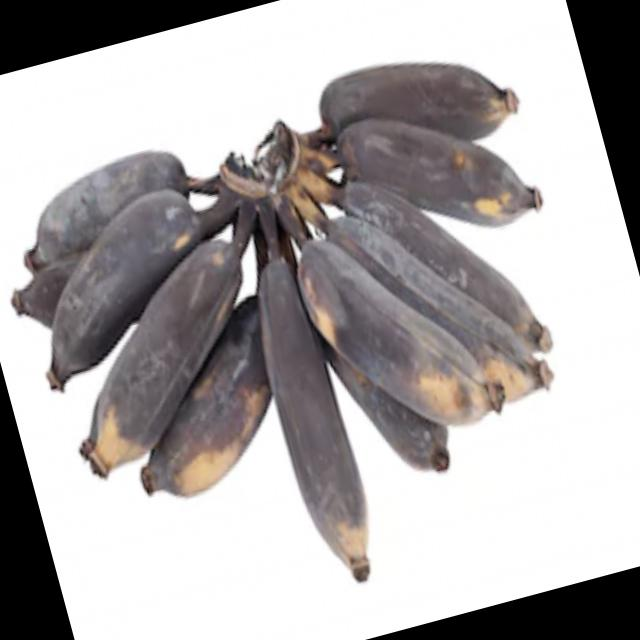rotten-banana: (26, 237, 280, 472), (296, 222, 473, 456), (245, 266, 374, 568), (113, 306, 295, 500), (9, 198, 213, 368), (362, 180, 518, 400), (308, 24, 524, 162), (342, 114, 528, 233), (14, 136, 187, 248)
